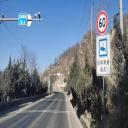speed_limit_60: (97, 9, 108, 35)
